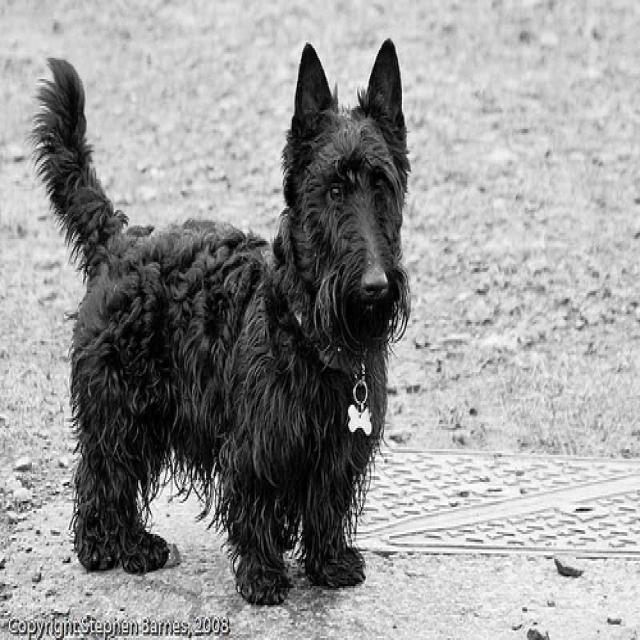dog-scottish_terrier: (37, 23, 419, 611)
